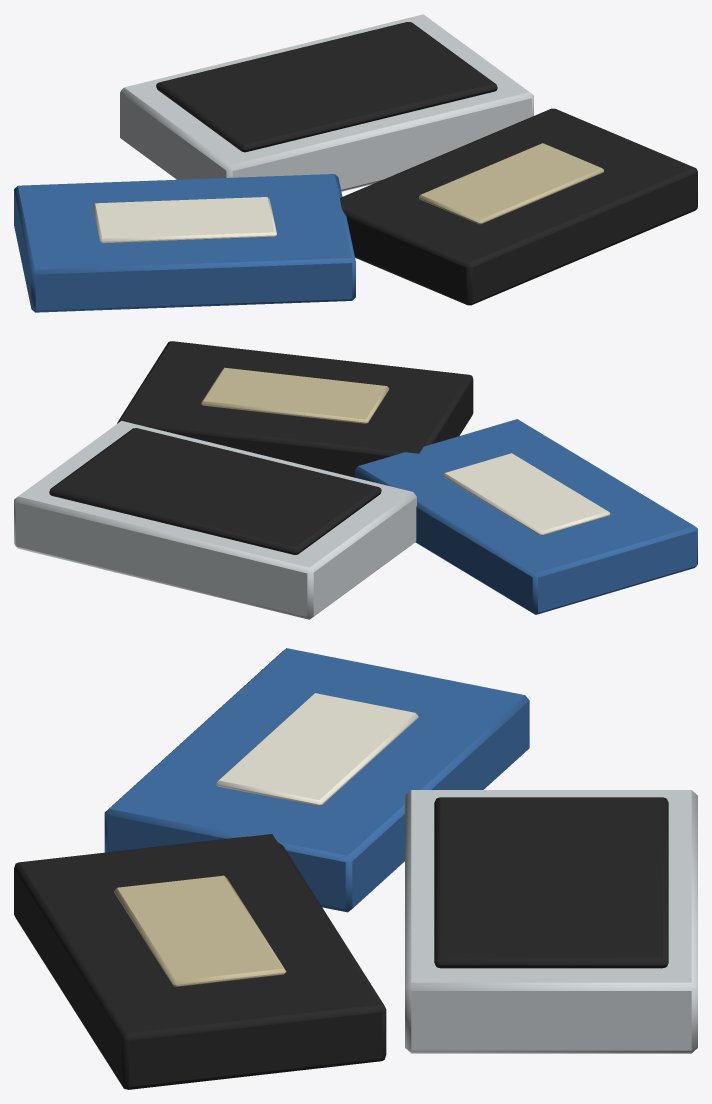
File: BangCassette_Hop.glb
3 renders of one model, top to bottom at view 1: azimuth 30°, elevation 25°; view 2: azimuth 150°, elevation 25°; view 3: azimuth 270°, elevation 25°, orthographic. The views are drawn at different scales.
Visible parts, largest first — view 1: BangCassette_Hop; view 2: BangCassette_Hop; view 3: BangCassette_Hop.
Part boxes in pixels (left/top/right/bottom): BangCassette_Hop: left=14, top=14, right=697, bottom=312; BangCassette_Hop: left=14, top=341, right=697, bottom=619; BangCassette_Hop: left=14, top=648, right=697, bottom=1089.
Size of the model in its own units: 0.2359 by 0.0225 by 0.1752.
